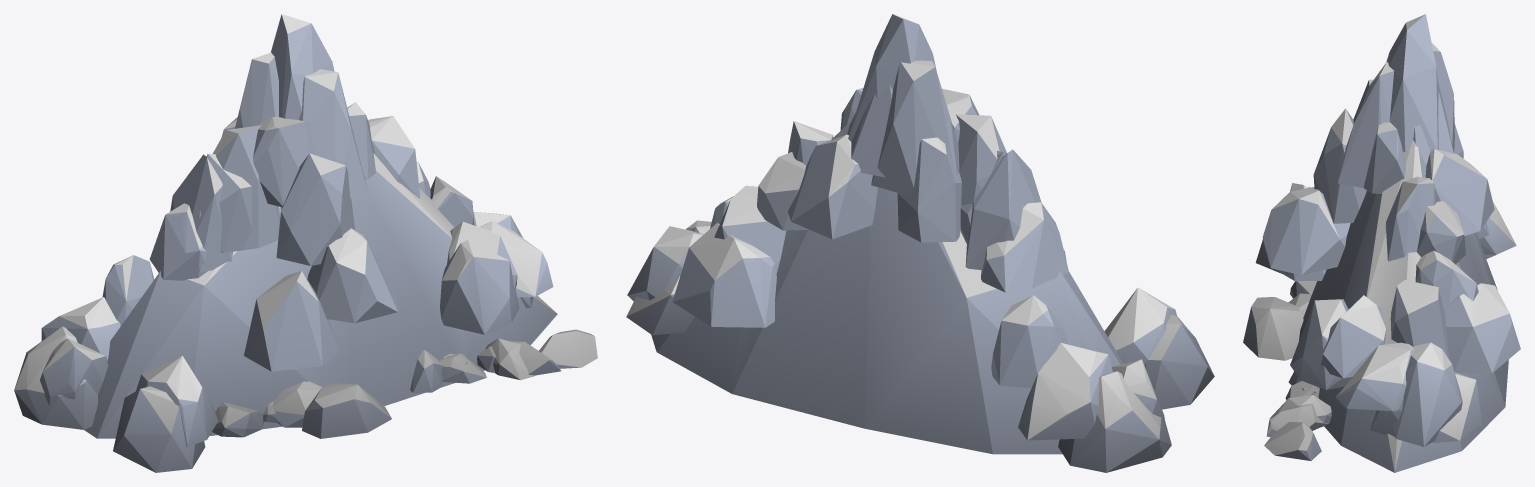
Rendered from rk_mtns_1.glb.
The picture shows the model from 3 angles, left to right: view 1: azimuth 30°, elevation 25°; view 2: azimuth 150°, elevation 25°; view 3: azimuth 270°, elevation 25°; orthographic projection. The views are drawn at different scales.
Visible parts, largest first — view 1: rk_mtns_1; view 2: rk_mtns_1; view 3: rk_mtns_1.
Boxes of the visible parts, x1=… form: rk_mtns_1: x1=14, y1=14, x2=597, y2=472; rk_mtns_1: x1=626, y1=14, x2=1214, y2=472; rk_mtns_1: x1=1243, y1=14, x2=1520, y2=472.
Bounding box in the file's own units: 114 × 74.27 × 55.47.
